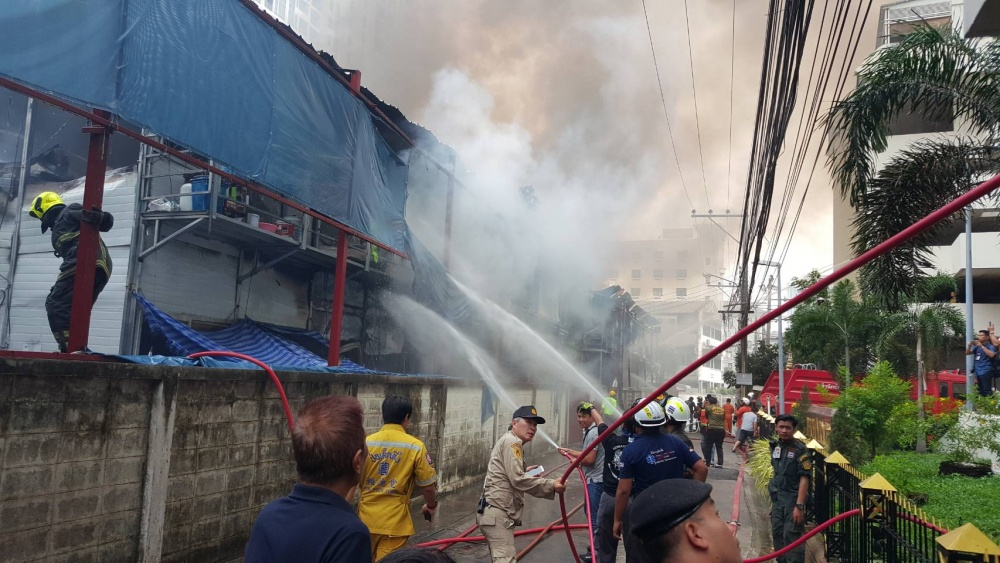none: (629, 477, 744, 563), (293, 393, 367, 489), (379, 392, 411, 429), (511, 406, 541, 442), (770, 413, 796, 441), (576, 402, 594, 428), (976, 328, 990, 344), (708, 395, 718, 406), (751, 406, 758, 414), (725, 397, 732, 404)
white: (628, 398, 665, 435), (663, 398, 691, 431), (739, 397, 750, 408)
yellow: (30, 191, 62, 229), (608, 389, 616, 397)
